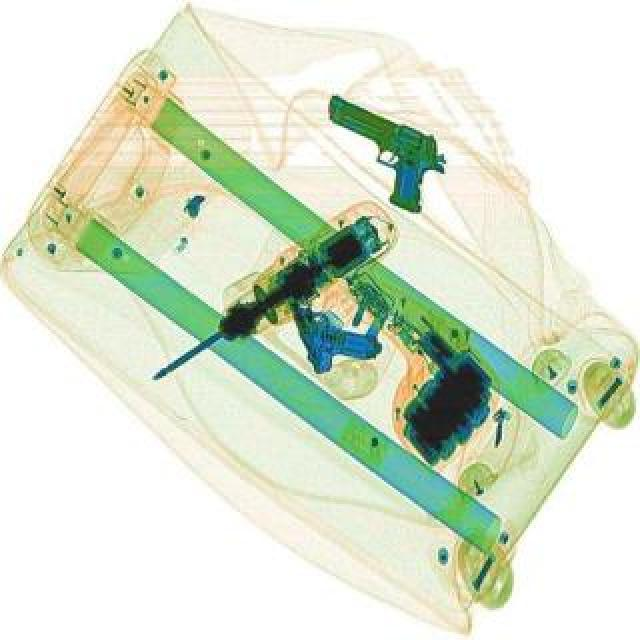gun: (292, 92, 456, 220), (282, 280, 382, 380)
